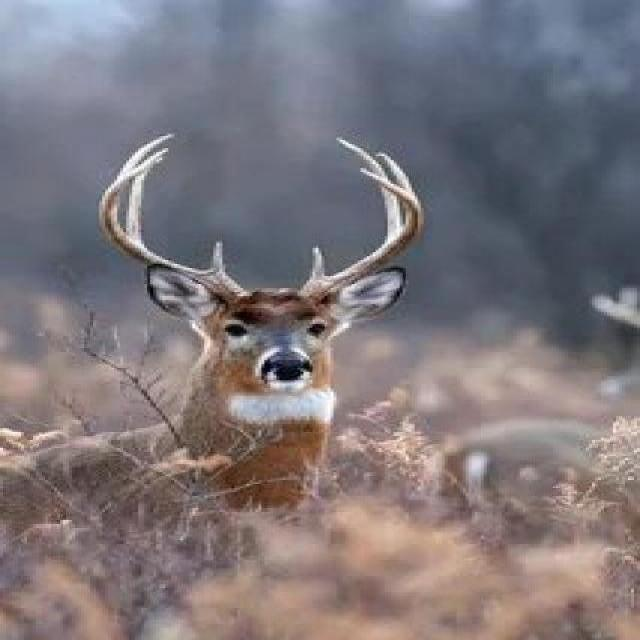deer: (32, 175, 522, 570)
